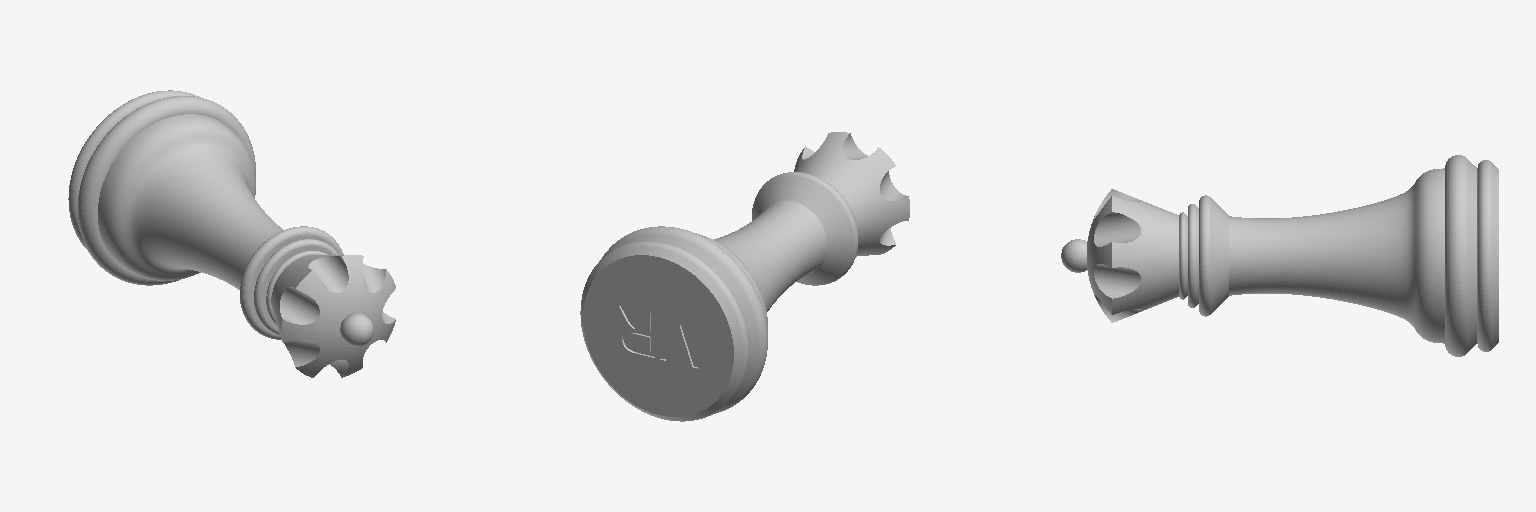
File: queen.obj
3 renders of one model, left to right at view 1: azimuth 30°, elevation 25°; view 2: azimuth 150°, elevation 25°; view 3: azimuth 270°, elevation 25°, orthographic.
Parts seen in each view (by area): view 1: MeshFeature1; view 2: MeshFeature1; view 3: MeshFeature1.
Part boxes in pixels (left/top/right/bottom): MeshFeature1: left=68, top=90, right=395, bottom=377; MeshFeature1: left=580, top=132, right=909, bottom=421; MeshFeature1: left=1061, top=155, right=1498, bottom=356.
Size of the model in its own units: 30 by 29.99 by 65.